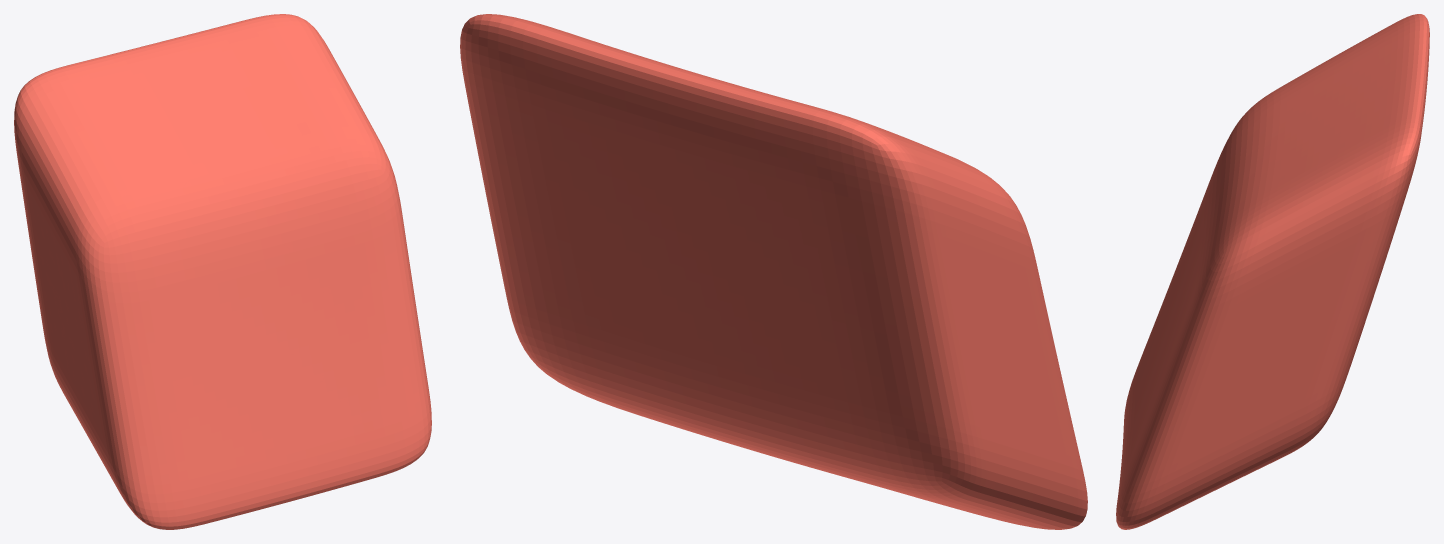
3 renders of one model, left to right at view 1: azimuth 30°, elevation 25°; view 2: azimuth 150°, elevation 25°; view 3: azimuth 270°, elevation 25°, orthographic. The views are drawn at different scales.
Parts seen in each view (by area): view 1: waves_1.063; view 2: waves_1.063; view 3: waves_1.063.
Boxes of the visible parts, box(x1,y1,x2,y2) form: waves_1.063: box(14, 14, 431, 529); waves_1.063: box(460, 14, 1087, 529); waves_1.063: box(1116, 14, 1429, 529).
Size of the model in its own units: 30.12 by 34.32 by 23.88.
